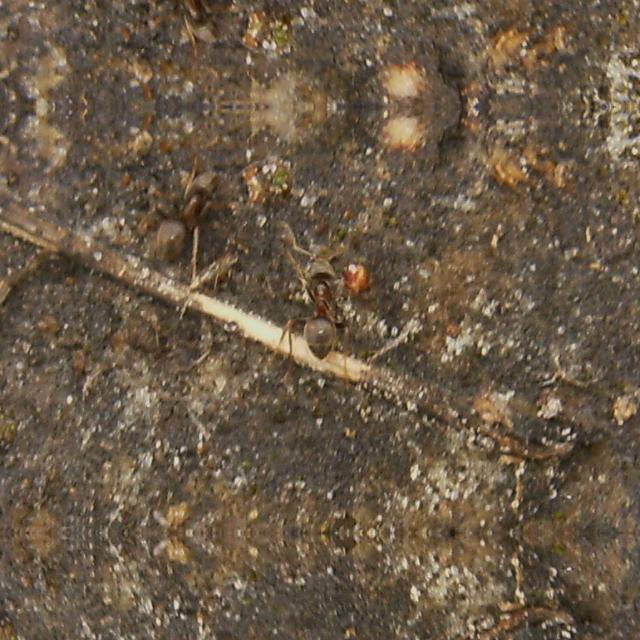Lasius: (273, 237, 371, 371), (146, 148, 230, 264), (146, 0, 228, 64)
